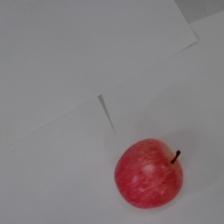red: (113, 137, 185, 210)
